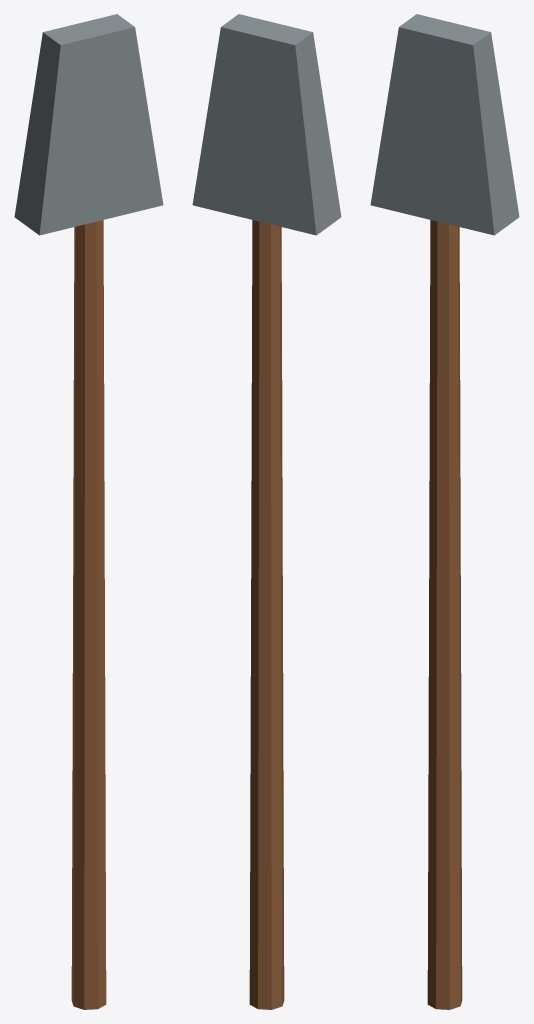
The model's file is wk_prop_shovel_v01.glb.
The picture shows the model from 3 angles, left to right: view 1: azimuth 30°, elevation 25°; view 2: azimuth 150°, elevation 25°; view 3: azimuth 330°, elevation 25°; orthographic projection.
Visible parts, largest first — view 1: GEO_shovel_Shaft, GEO_ShovelBlade; view 2: GEO_shovel_Shaft, GEO_ShovelBlade; view 3: GEO_shovel_Shaft, GEO_ShovelBlade.
Boxes of the visible parts, x1=… form: GEO_shovel_Shaft: x1=71, y1=220, x2=106, y2=1009; GEO_ShovelBlade: x1=14, y1=14, x2=163, y2=235; GEO_shovel_Shaft: x1=249, y1=220, x2=284, y2=1009; GEO_ShovelBlade: x1=192, y1=14, x2=341, y2=235; GEO_shovel_Shaft: x1=427, y1=220, x2=462, y2=1009; GEO_ShovelBlade: x1=370, y1=14, x2=519, y2=235.
Bounding box in the file's own units: 0.2 × 1.5 × 0.07.
